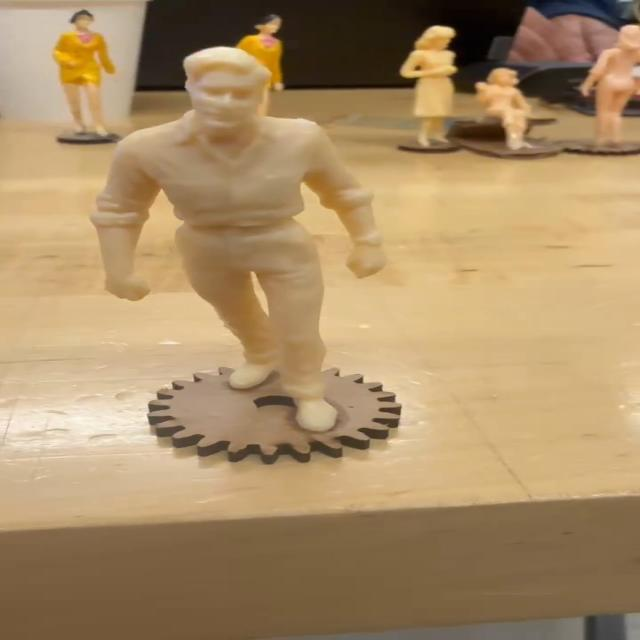Unauthorized: (72, 48, 402, 443)
